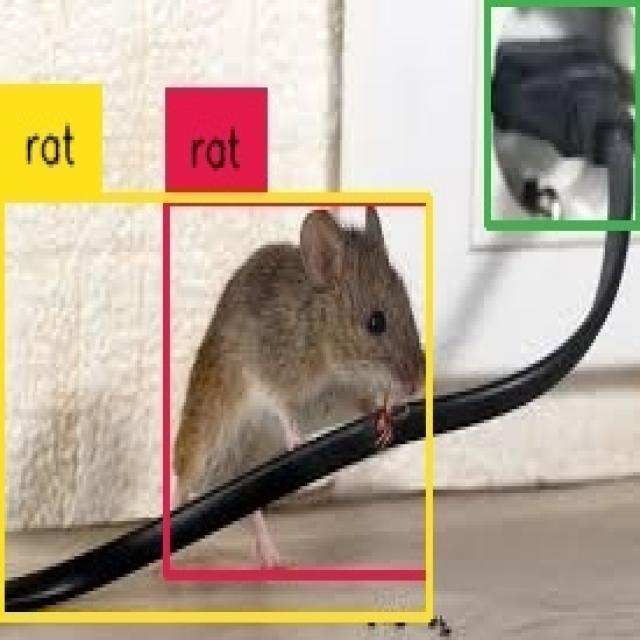rat: (0, 198, 431, 617), (165, 200, 431, 574), (488, 0, 640, 227)
